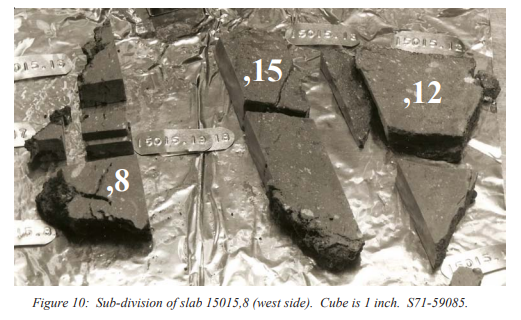Breccia: (225, 129, 391, 288), (349, 36, 497, 145), (31, 161, 168, 251), (387, 151, 488, 264), (209, 18, 316, 117), (74, 23, 134, 100), (25, 108, 89, 156)
